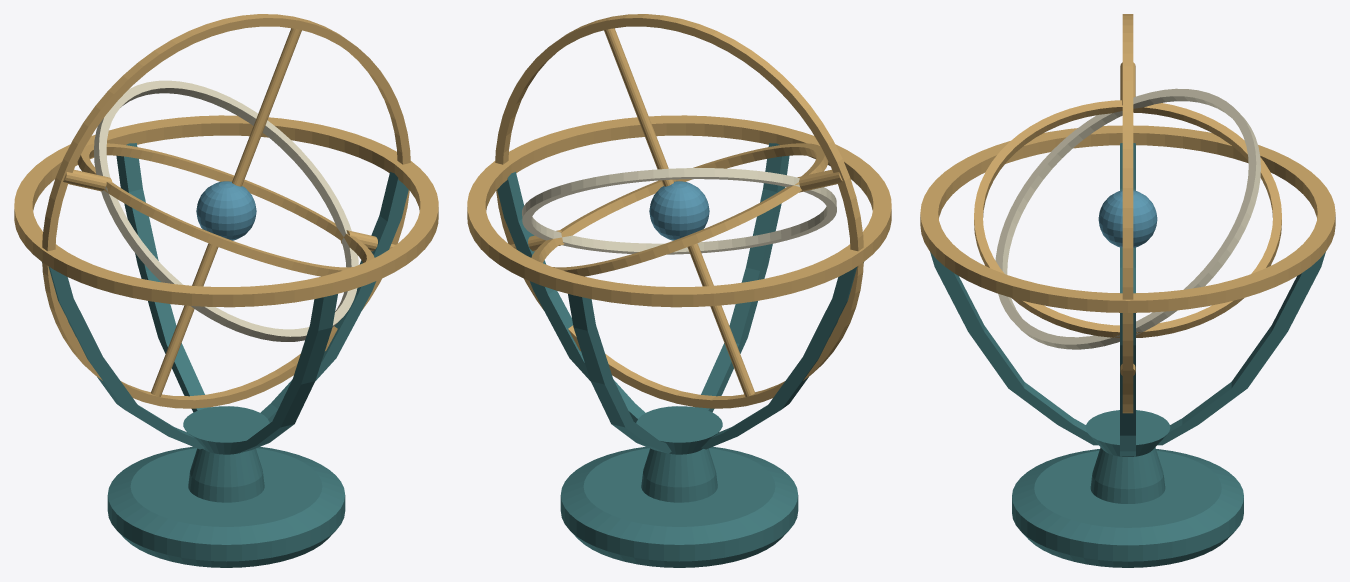
3 renders of one model, left to right at view 1: azimuth 30°, elevation 25°; view 2: azimuth 150°, elevation 25°; view 3: azimuth 270°, elevation 25°, orthographic. The views are drawn at different scales.
Parts seen in each view (by area): view 1: WholeFiniteSolePedestal, WholeHorizontalHorizonBand, WholeUprightMeridianHoop, WholeCrossTiltedEclipticBand, WholeTiltedInnerEquatorBand, ShortTurnedCentreColumn, CurvedSplayedStandard_3, CurvedSplayedStandard_1, WholeFixedPolarSpindle, CurvedSplayedStandard_2, CurvedSplayedStandard_0, SmallClosedCentralSphere (+1 smaller); view 2: WholeFiniteSolePedestal, WholeHorizontalHorizonBand, WholeUprightMeridianHoop, WholeCrossTiltedEclipticBand, ShortTurnedCentreColumn, WholeTiltedInnerEquatorBand, CurvedSplayedStandard_3, CurvedSplayedStandard_1, CurvedSplayedStandard_0, WholeFixedPolarSpindle, CurvedSplayedStandard_2, SmallClosedCentralSphere (+1 smaller); view 3: WholeFiniteSolePedestal, WholeHorizontalHorizonBand, WholeCrossTiltedEclipticBand, WholeTiltedInnerEquatorBand, ShortTurnedCentreColumn, WholeUprightMeridianHoop, CurvedSplayedStandard_1, CurvedSplayedStandard_3, SmallClosedCentralSphere, CurvedSplayedStandard_0, CurvedSplayedStandard_2.
Part boxes in pixels (x1,y1,x2,y2): WholeFiniteSolePedestal: (107,446,345,567); WholeHorizontalHorizonBand: (14,115,438,307); WholeUprightMeridianHoop: (42,14,410,408); WholeCrossTiltedEclipticBand: (94,80,358,341); WholeTiltedInnerEquatorBand: (77,143,374,276); ShortTurnedCentreColumn: (183,406,269,502); CurvedSplayedStandard_3: (234,294,337,453); CurvedSplayedStandard_1: (116,143,211,412); WholeFixedPolarSpindle: (151,28,301,396); CurvedSplayedStandard_2: (42,262,204,449); CurvedSplayedStandard_0: (260,172,408,422); SmallClosedCentralSphere: (196,181,256,240); WholeFiniteSolePedestal: (560,446,798,567); WholeHorizontalHorizonBand: (467,115,891,307); WholeUprightMeridianHoop: (495,14,863,408); WholeCrossTiltedEclipticBand: (522,168,836,254); ShortTurnedCentreColumn: (636,406,722,502); WholeTiltedInnerEquatorBand: (531,143,828,276); CurvedSplayedStandard_3: (694,143,789,412); CurvedSplayedStandard_1: (568,294,671,453); CurvedSplayedStandard_0: (497,172,645,422); WholeFixedPolarSpindle: (604,28,754,396); CurvedSplayedStandard_2: (701,262,863,449); SmallClosedCentralSphere: (649,181,709,240); WholeFiniteSolePedestal: (1012,449,1243,567); WholeHorizontalHorizonBand: (920,125,1335,312); WholeCrossTiltedEclipticBand: (995,88,1260,349); WholeTiltedInnerEquatorBand: (974,100,1281,337); ShortTurnedCentreColumn: (1085,410,1170,503); WholeUprightMeridianHoop: (1122,14,1133,413); CurvedSplayedStandard_1: (1157,252,1325,445); CurvedSplayedStandard_3: (930,252,1098,445); SmallClosedCentralSphere: (1098,190,1157,247); CurvedSplayedStandard_0: (1120,313,1135,456); CurvedSplayedStandard_2: (1120,143,1135,293).
Bounding box in the file's own units: 0.93 × 1.21 × 0.93.
